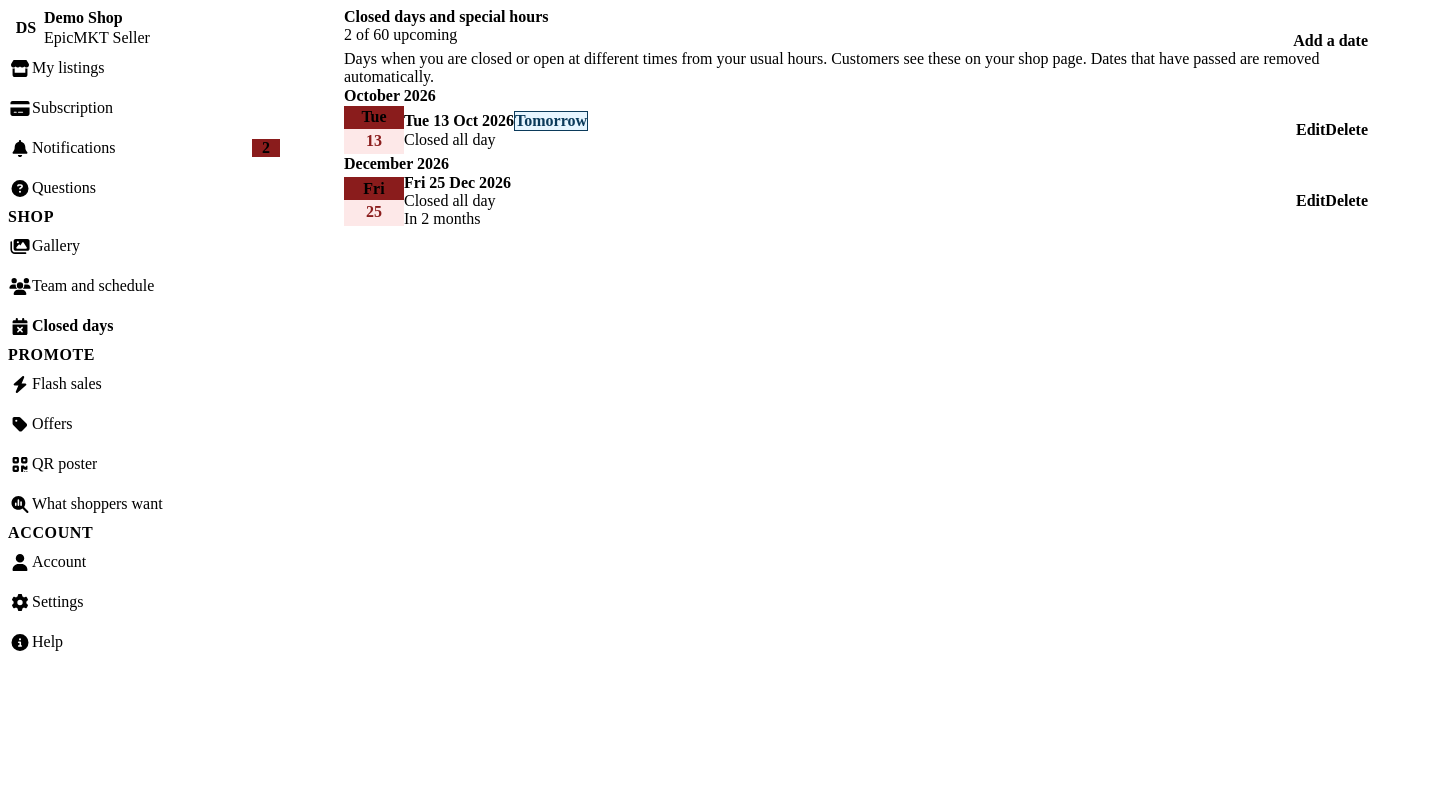
Test: add › adds a closed-all-day exception with a note, in the right place
Click the button "Add a date" at {"x": 1331, "y": 41}, box [1293,32,1368,50]
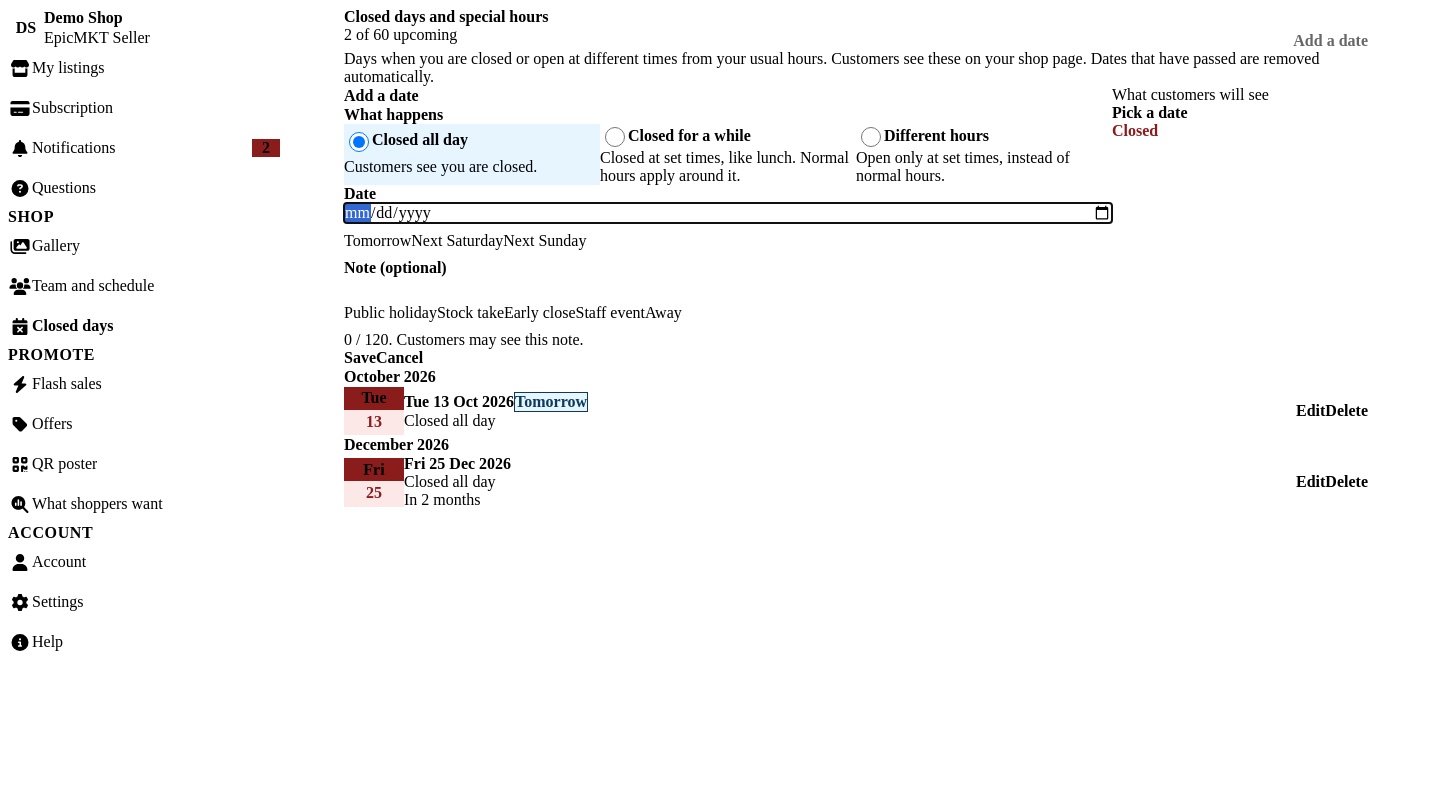
Type "2026-11-20" into the date field labelled "Date" at {"x": 728, "y": 213}, box [344,203,1112,223]
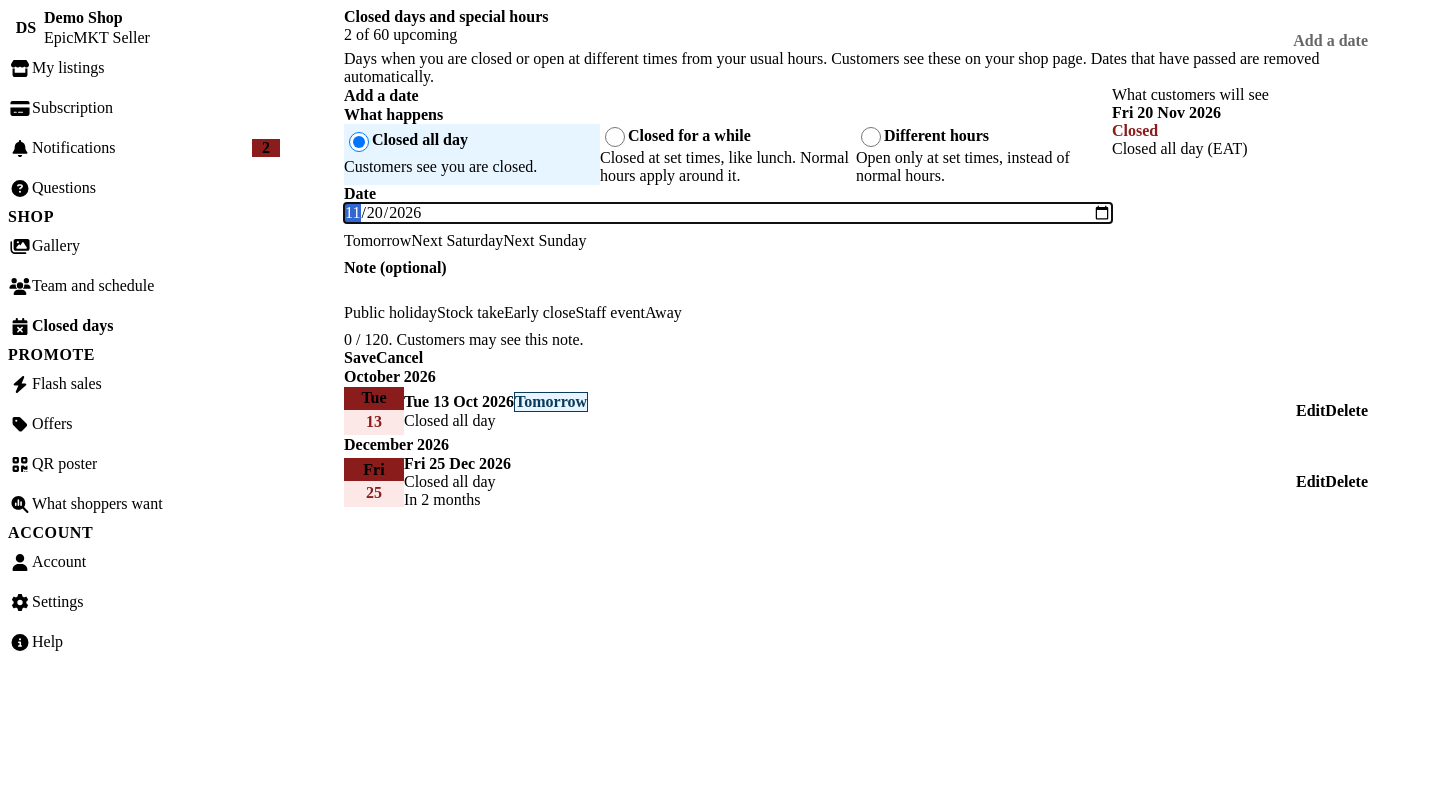
Type "Family event" into the field labelled "Note (optional)" at {"x": 728, "y": 286}, box [344,277,1112,295]
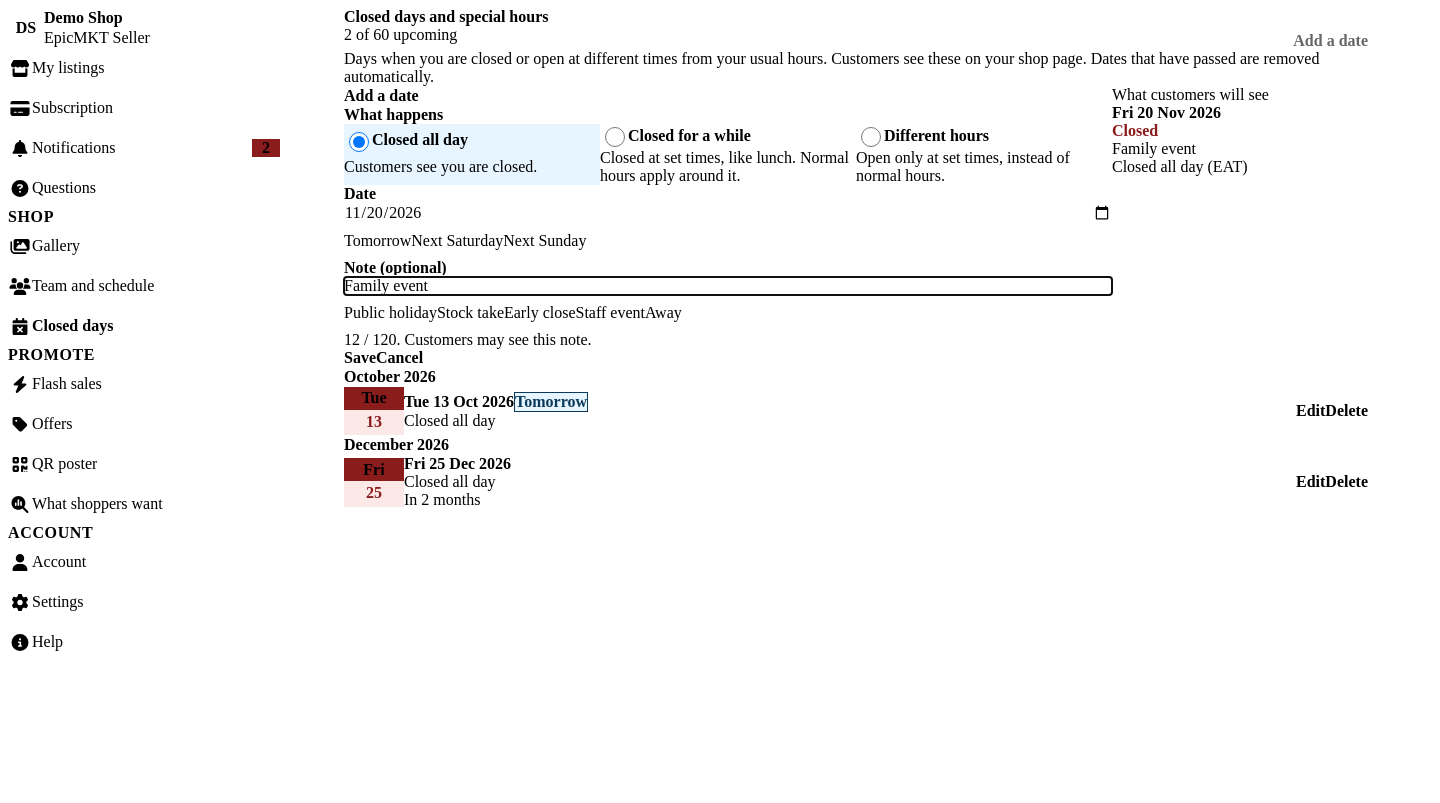
Click the button "Save" at {"x": 360, "y": 358}, box [344,349,376,367]
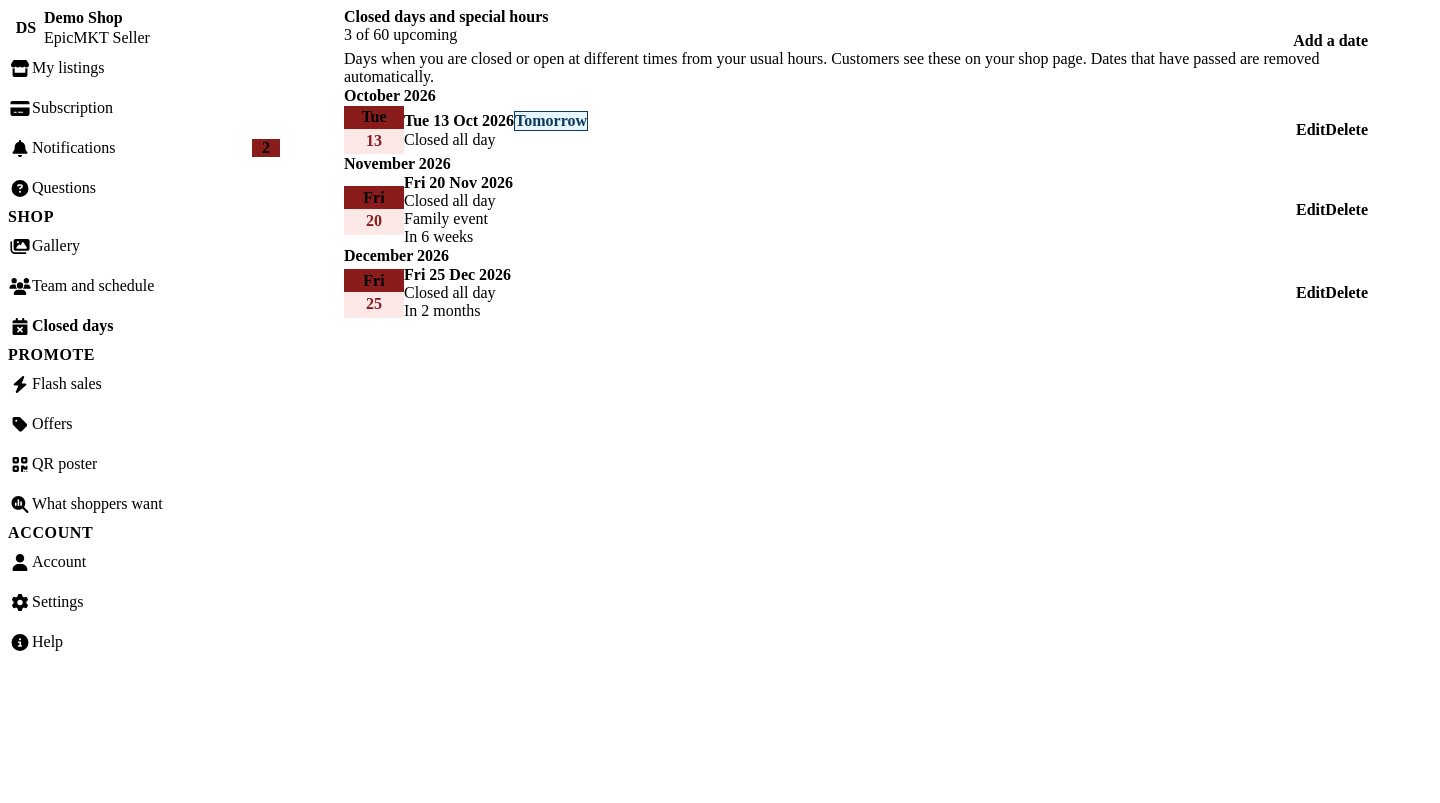
Result: the number of list items with test id "exception" is 3 at [344,106,1368,154]; [344,174,1368,246]; [344,266,1368,320]
Result: the list item with test id "exception" shows "Closed all day" at [404,192,496,209]
Result: the list item with test id "exception" shows "Family event" at [404,210,488,227]
